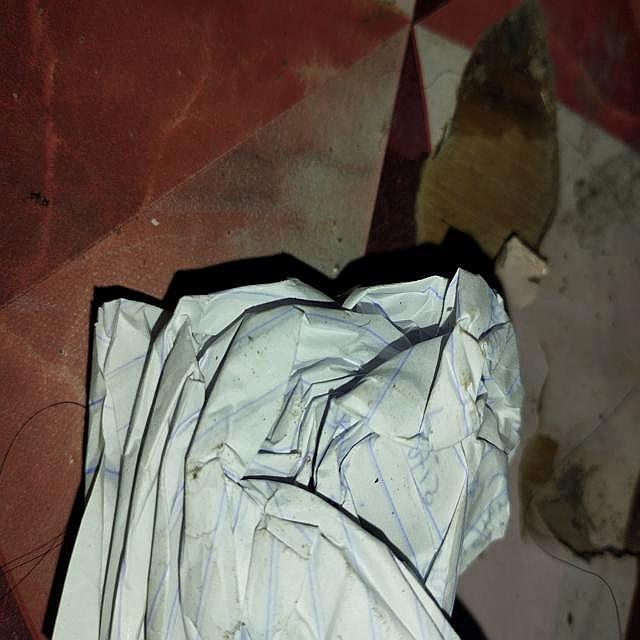Biodegradable: (57, 271, 521, 640)
